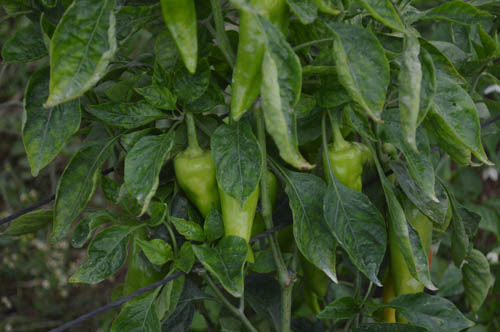ChiliPepper: (227, 3, 289, 126), (389, 203, 429, 299), (178, 151, 218, 220), (222, 184, 255, 265), (320, 145, 362, 205), (163, 5, 199, 74)
